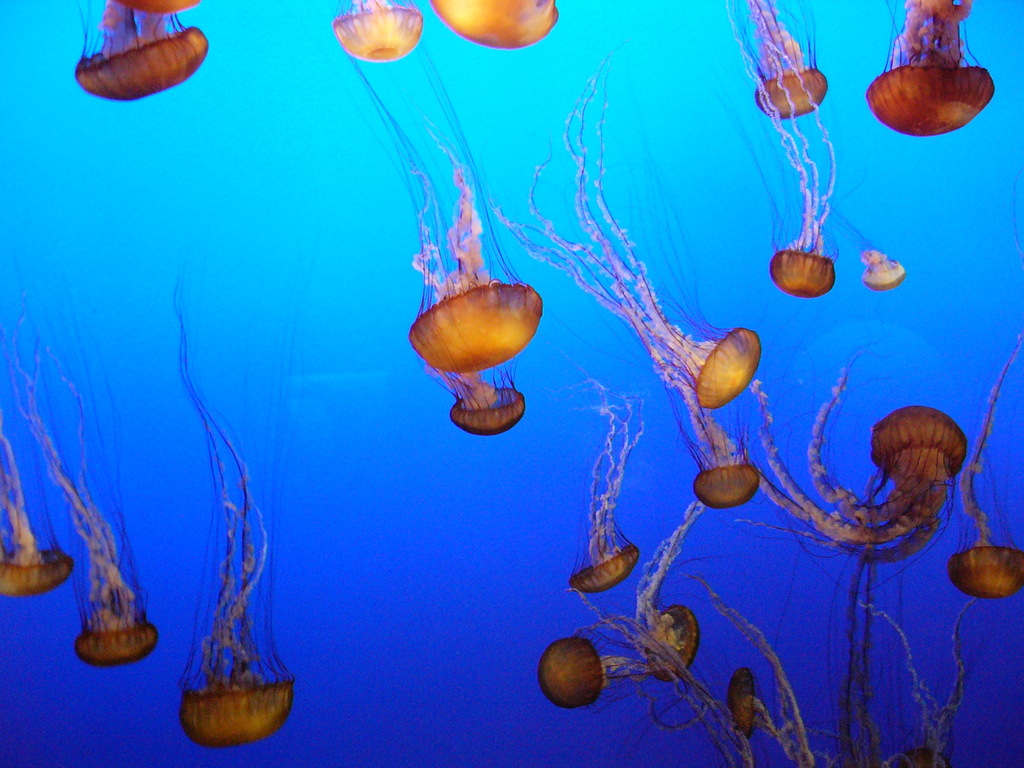Jellyfish: (488, 39, 762, 408), (174, 227, 323, 753), (336, 39, 544, 376), (0, 256, 159, 663), (734, 312, 968, 575), (572, 570, 811, 767), (567, 305, 762, 514), (826, 544, 974, 767), (739, 27, 838, 295), (531, 612, 712, 737), (947, 328, 1023, 599), (564, 370, 657, 591), (867, 0, 995, 140), (622, 498, 711, 683), (654, 366, 759, 509), (0, 380, 69, 595), (74, 0, 211, 108), (729, 0, 831, 121), (718, 669, 810, 767), (419, 350, 526, 433), (426, 0, 560, 48), (831, 206, 905, 292), (328, 0, 424, 60)
